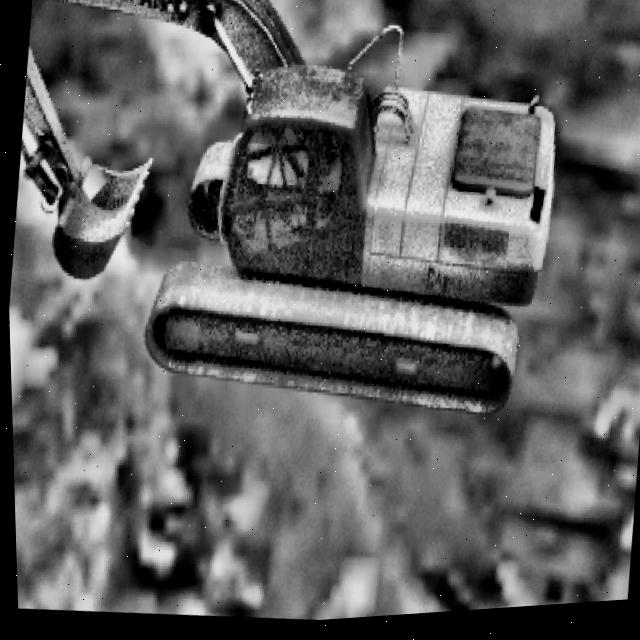excavator: (0, 0, 574, 448)
